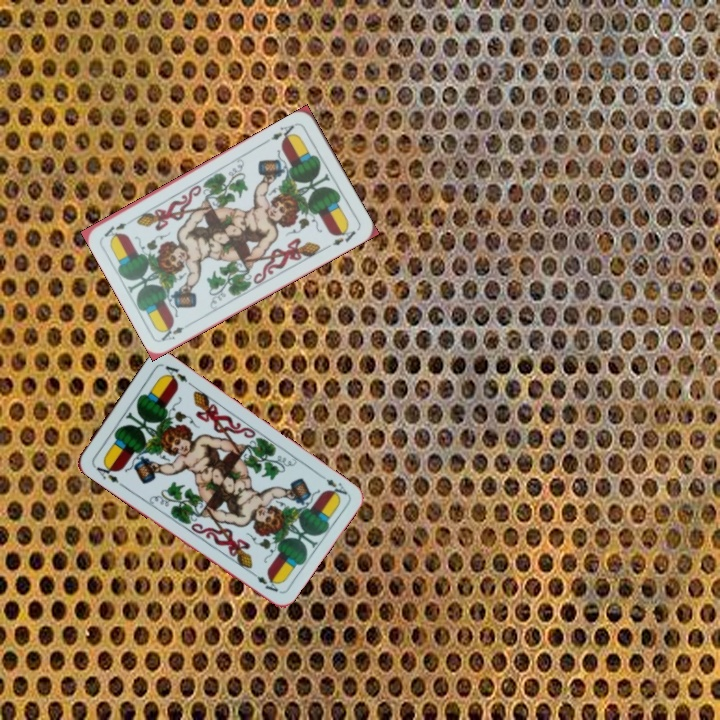EA: (314, 470, 350, 501), (262, 119, 300, 145), (157, 318, 195, 344), (89, 458, 122, 486)
